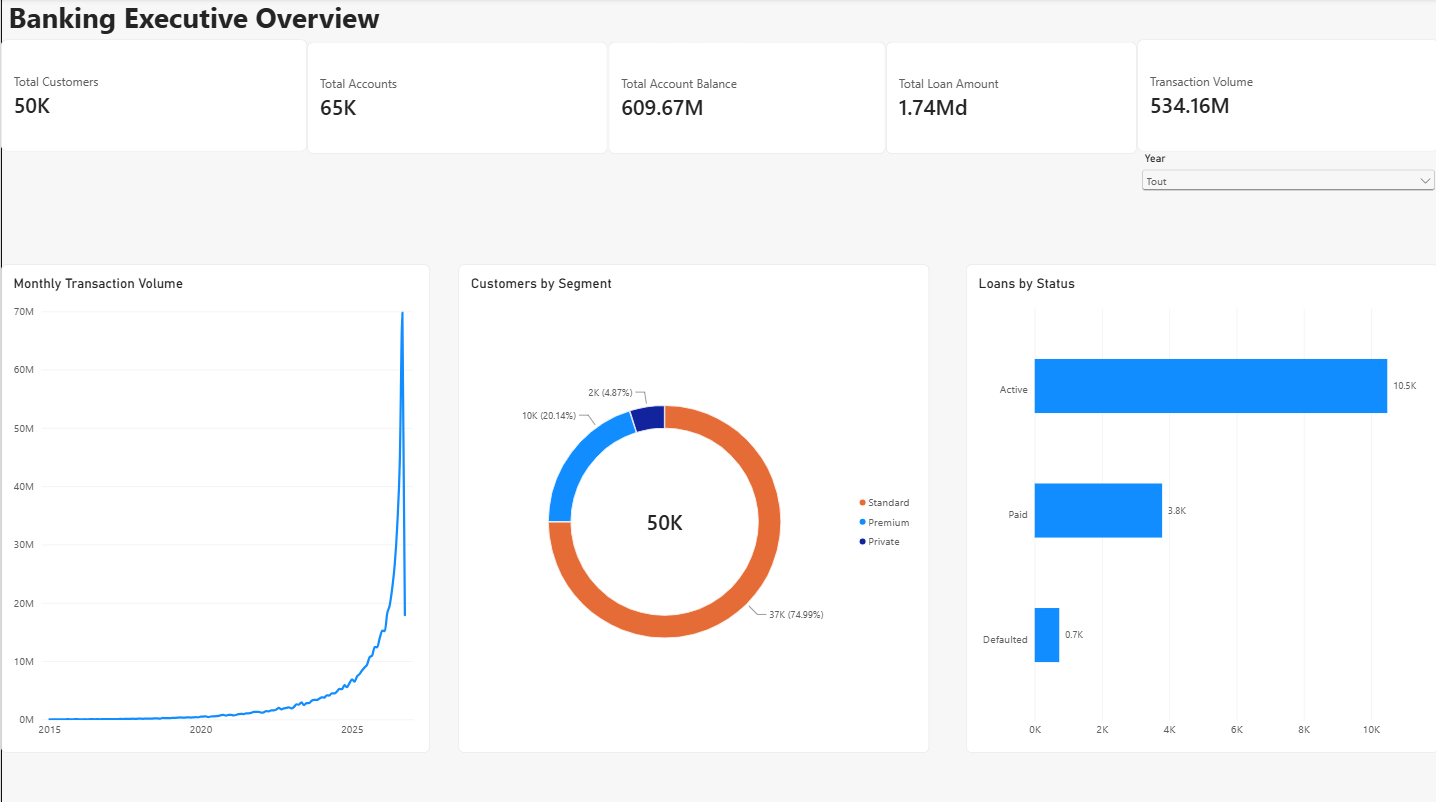

Layout of this report page (visuals, bound fields, positions):
{"tool":"powerbi","page":{"name":"Executive Overview","canvas":[1920,1080],"ordinal":0},"visuals":[{"type":"textbox","box":[10.3,0,537.2,55.6],"z":0},{"type":"cardVisual","fields":{"Data":["public customers.Total Customers"]},"box":[0,55.6,409.6,150.3],"z":1},{"type":"cardVisual","fields":{"Data":["public accounts.Total Accounts"]},"box":[409.6,57.6,401.4,150.3],"z":2},{"type":"cardVisual","fields":{"Data":["public accounts.Total Account Balance"]},"box":[811,57.6,370.5,150.3],"z":3},{"type":"cardVisual","fields":{"Data":["public loans.Total Loan Amount"]},"box":[1181.5,57.6,335.5,150.3],"z":4},{"type":"cardVisual","fields":{"Data":["public transactions.Transaction Volume"]},"box":[1517,55.6,403.4,150.3],"z":5},{"type":"lineChart","title":"Monthly Transaction Volume","fields":{"Category":["Date.MonthStart"],"Y":["public transactions.Transaction Volume"]},"box":[0,356.4,572.7,652.7],"z":6},{"type":"donutChart","title":"Customers by Segment","fields":{"Category":["public customers.customer_segment"],"Y":["public customers.Total Customers"]},"box":[610.9,356.4,629.1,652.7],"z":7},{"type":"barChart","title":"Loans by Status","fields":{"Category":["public loans.loan_status"],"Y":["public loans.Total Loans"]},"box":[1289.1,356.4,630.9,652.7],"z":8},{"type":"slicer","fields":{"Values":["Date.Year"]},"box":[1519,205.8,401.4,65.9],"z":9}]}

Visuals, with their boxes in screenshot pixels (x1, y1, x2, y2), scaled from the page's 1920x1080 canvas onto the 1436x802 screenshot:
textbox: 8,0,409,41
cardVisual - public customers.Total Customers: 0,41,306,153
cardVisual - public accounts.Total Accounts: 306,43,607,154
cardVisual - public accounts.Total Account Balance: 607,43,884,154
cardVisual - public loans.Total Loan Amount: 884,43,1135,154
cardVisual - public transactions.Transaction Volume: 1135,41,1435,153
"Monthly Transaction Volume" lineChart: 0,265,428,749
"Customers by Segment" donutChart: 457,265,927,749
"Loans by Status" barChart: 964,265,1435,749
slicer - Date.Year: 1136,153,1435,202
